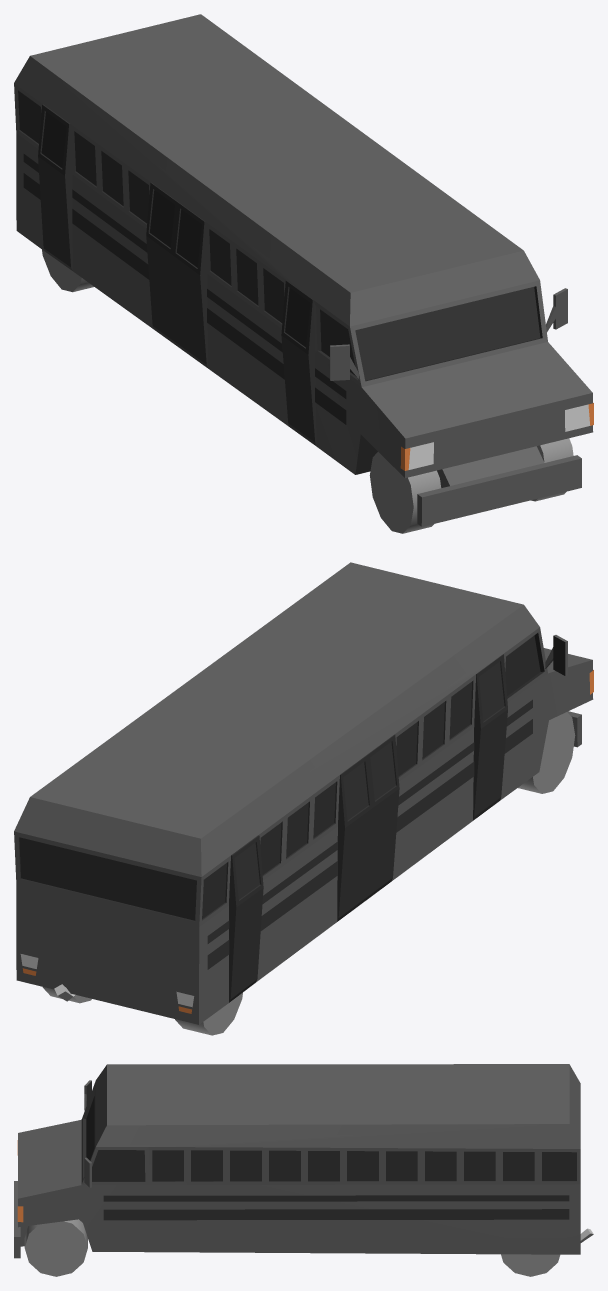
Rendered from bus_09.fbx.
The picture shows the model from 3 angles, top to bottom: view 1: azimuth 30°, elevation 25°; view 2: azimuth 150°, elevation 25°; view 3: azimuth 270°, elevation 25°; orthographic projection. The views are drawn at different scales.
Parts seen in each view (by area): view 1: bus_09; view 2: bus_09; view 3: bus_09.
Boxes of the visible parts, bbox=[...] form: bus_09: bbox=[14, 14, 593, 533]; bus_09: bbox=[14, 562, 593, 1035]; bus_09: bbox=[14, 1064, 593, 1276].
Size of the model in its own units: 2.77 by 2.39 by 8.14.
